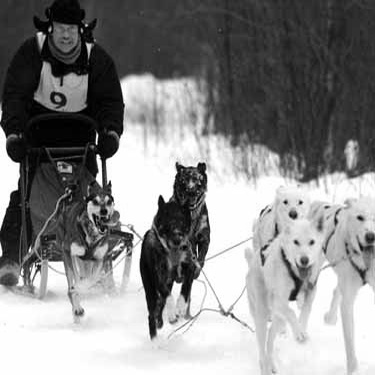dog: (233, 210, 328, 374), (305, 192, 371, 371), (251, 177, 322, 343), (48, 173, 118, 336), (134, 188, 196, 342), (167, 158, 210, 282)
